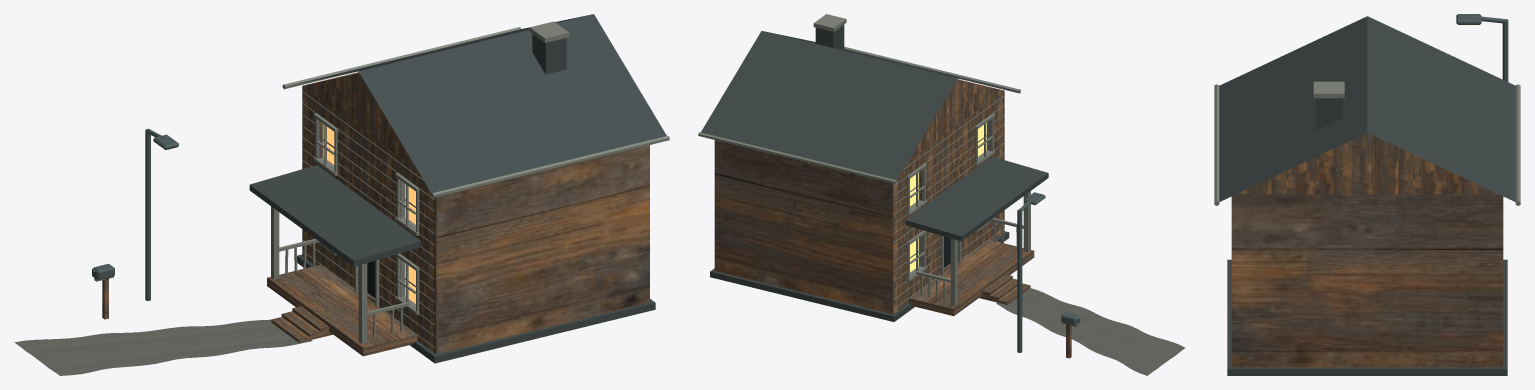
The model's file is roadside-set.glb.
3 renders of one model, left to right at view 1: azimuth 30°, elevation 25°; view 2: azimuth 150°, elevation 25°; view 3: azimuth 270°, elevation 25°, orthographic. The views are drawn at different scales.
Visible parts, largest first — view 1: Roadside v3 Cleared Poly Haven weathered timber, Roadside v3 Original weathered slate and chimney, Roadside v3 Original faded porch trim, Roadside v3 Original driveway gravel, Roadside v3 Original unmarked mailbox and pole, Roadside v3 Warm recessed house window glass; view 2: Roadside v3 Cleared Poly Haven weathered timber, Roadside v3 Original weathered slate and chimney, Roadside v3 Original faded porch trim, Roadside v3 Original driveway gravel, Roadside v3 Original unmarked mailbox and pole, Roadside v3 Warm recessed house window glass; view 3: Roadside v3 Cleared Poly Haven weathered timber, Roadside v3 Original weathered slate and chimney, Roadside v3 Original faded porch trim, Roadside v3 Original unmarked mailbox and pole.
Boxes of the visible parts, x1,y1,x2,y2 form: Roadside v3 Cleared Poly Haven weathered timber: (102, 72, 649, 356); Roadside v3 Original weathered slate and chimney: (249, 14, 666, 363); Roadside v3 Original faded porch trim: (93, 21, 669, 348); Roadside v3 Original driveway gravel: (14, 319, 312, 375); Roadside v3 Original unmarked mailbox and pole: (92, 128, 178, 300); Roadside v3 Warm recessed house window glass: (323, 124, 415, 303); Roadside v3 Cleared Poly Haven weathered timber: (714, 79, 1071, 358); Roadside v3 Original weathered slate and chimney: (701, 24, 1048, 321); Roadside v3 Original faded porch trim: (698, 14, 1079, 326); Roadside v3 Original driveway gravel: (996, 288, 1185, 375); Roadside v3 Original unmarked mailbox and pole: (1017, 192, 1080, 352); Roadside v3 Warm recessed house window glass: (910, 122, 986, 272); Roadside v3 Cleared Poly Haven weathered timber: (1231, 132, 1503, 367); Roadside v3 Original weathered slate and chimney: (1219, 16, 1515, 375); Roadside v3 Original faded porch trim: (1214, 81, 1520, 205); Roadside v3 Original unmarked mailbox and pole: (1456, 14, 1508, 81).
Bounding box in the file's own units: 14.4 × 6.8 × 7.21.
8 materials, 1 textured.
